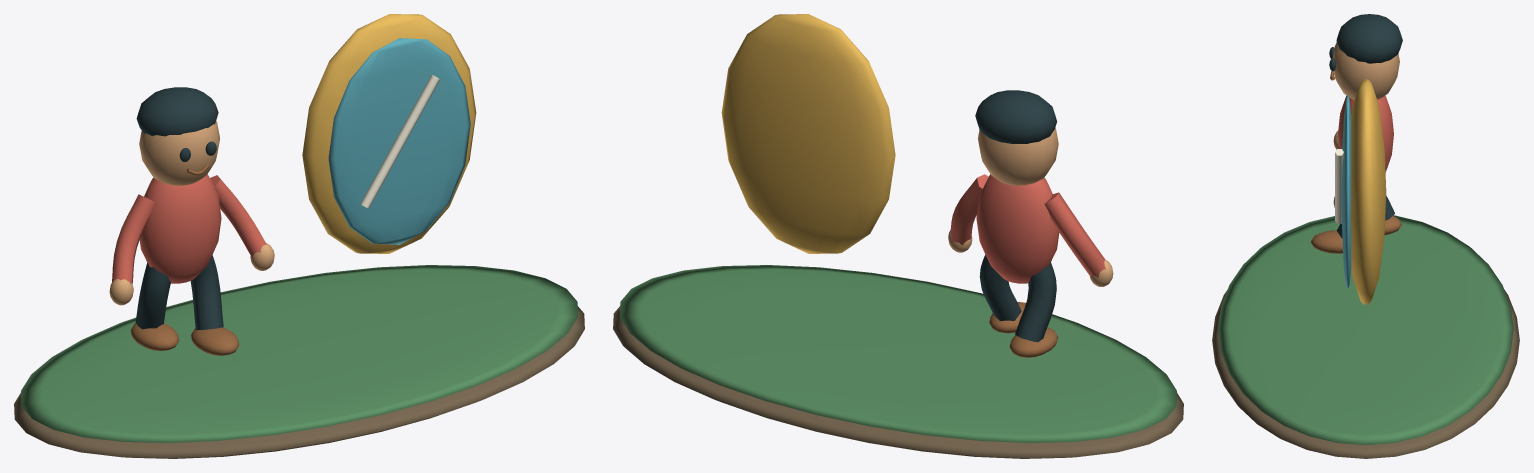
File: child-mirror.glb
The picture shows the model from 3 angles, left to right: view 1: azimuth 30°, elevation 25°; view 2: azimuth 150°, elevation 25°; view 3: azimuth 270°, elevation 25°; orthographic projection. The views are drawn at different scales.
Visible parts, largest first — view 1: child-mirror_surface_01, child-mirror_surface_03, child-mirror_surface_00, child-mirror_surface_08, child-mirror_surface_02, child-mirror_surface_06, child-mirror_surface_05, child-mirror_surface_07, child-mirror_surface_04; view 2: child-mirror_surface_01, child-mirror_surface_02, child-mirror_surface_00, child-mirror_surface_08, child-mirror_surface_06, child-mirror_surface_05, child-mirror_surface_07; view 3: child-mirror_surface_01, child-mirror_surface_02, child-mirror_surface_00, child-mirror_surface_06, child-mirror_surface_05, child-mirror_surface_03, child-mirror_surface_08, child-mirror_surface_07, child-mirror_surface_04.
Boxes of the visible parts, <box> form: child-mirror_surface_01: <box>21,265,577,442</box>; child-mirror_surface_03: <box>328,38,470,244</box>; child-mirror_surface_00: <box>14,306,584,458</box>; child-mirror_surface_08: <box>111,174,266,284</box>; child-mirror_surface_02: <box>302,14,476,253</box>; child-mirror_surface_06: <box>135,87,223,330</box>; child-mirror_surface_05: <box>109,121,274,305</box>; child-mirror_surface_07: <box>130,164,239,355</box>; child-mirror_surface_04: <box>360,75,439,208</box>; child-mirror_surface_01: <box>620,265,1176,442</box>; child-mirror_surface_02: <box>721,14,895,253</box>; child-mirror_surface_00: <box>613,306,1183,458</box>; child-mirror_surface_08: <box>950,174,1105,283</box>; child-mirror_surface_06: <box>975,90,1057,342</box>; child-mirror_surface_05: <box>948,127,1113,286</box>; child-mirror_surface_07: <box>989,302,1058,357</box>; child-mirror_surface_01: <box>1218,215,1513,445</box>; child-mirror_surface_02: <box>1351,79,1386,304</box>; child-mirror_surface_00: <box>1212,290,1519,458</box>; child-mirror_surface_06: <box>1329,14,1402,238</box>; child-mirror_surface_05: <box>1332,42,1399,207</box>; child-mirror_surface_03: <box>1341,95,1351,288</box>; child-mirror_surface_08: <box>1337,95,1393,171</box>; child-mirror_surface_07: <box>1311,71,1401,253</box>; child-mirror_surface_04: <box>1335,149,1343,223</box>.
Bounding box in the file's own units: 4.56 × 2.77 × 2.5.
